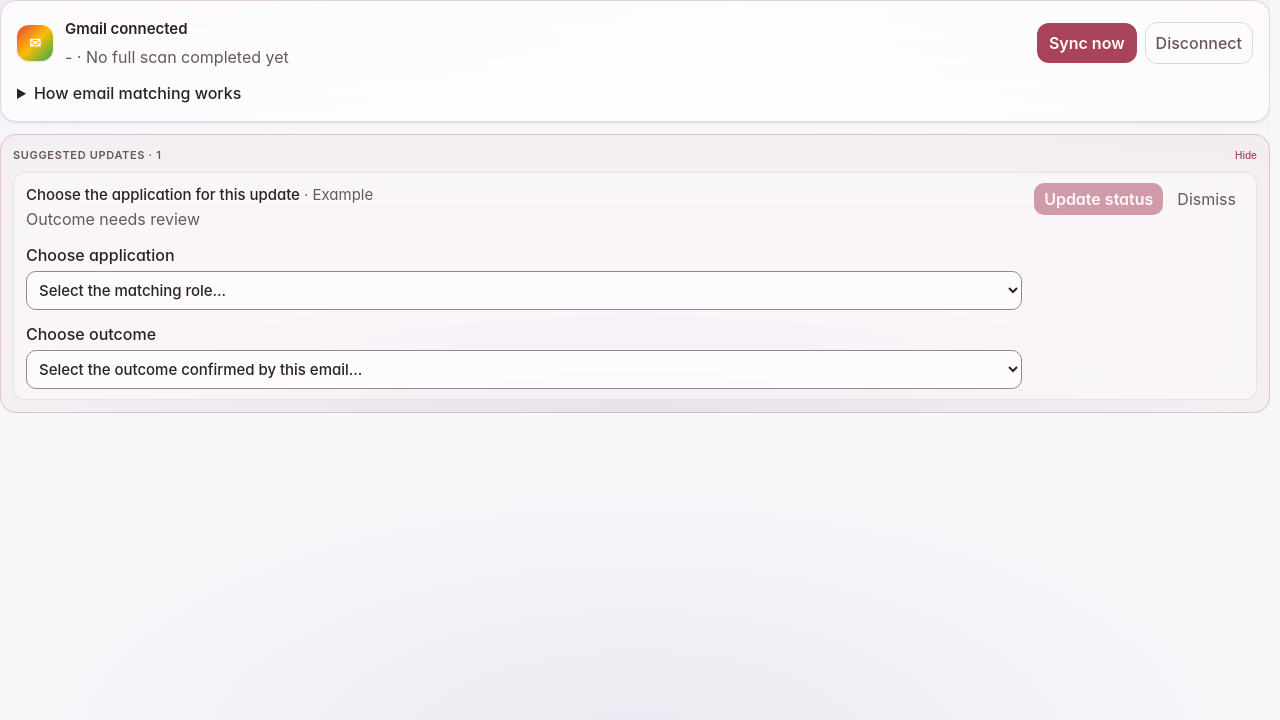
Scenario: Gmail review › the connected review queue forwards the chosen outcome through the API
Select "Engineer - Example" in the dropdown labelled "Choose application" at x=524, y=290, box 26,270 -> 1022,310
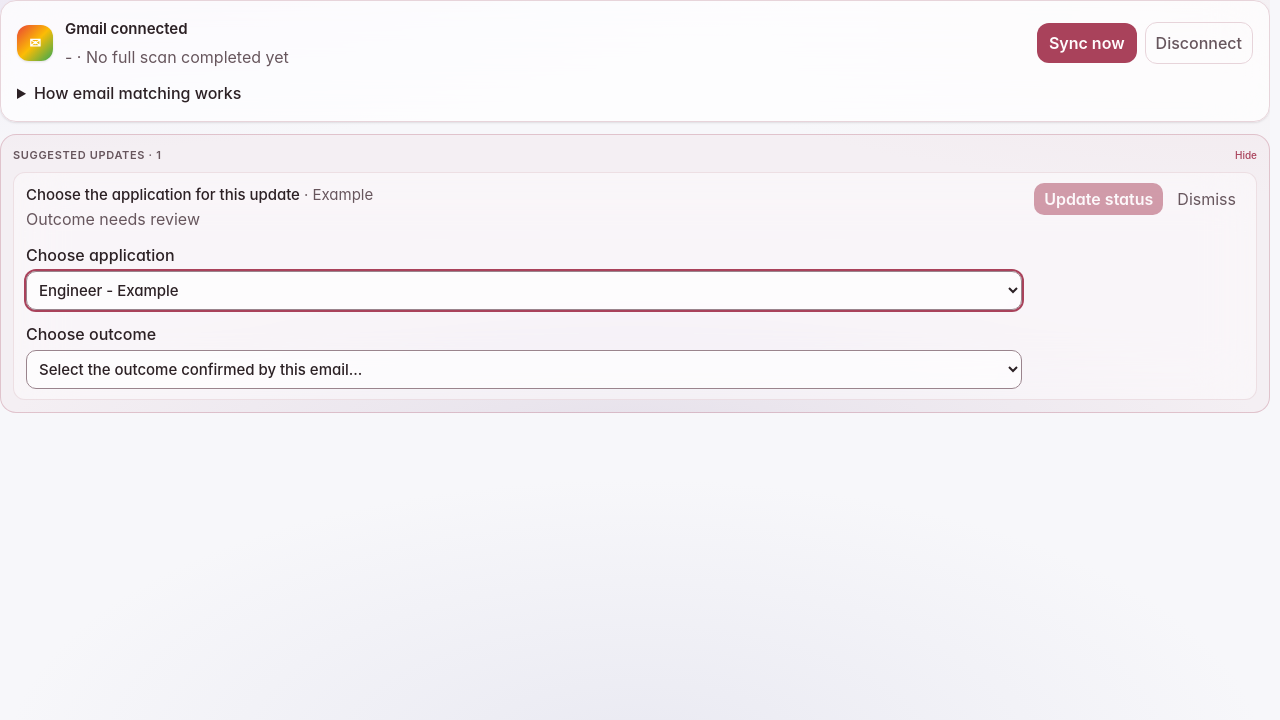
Expected: the button "Update status" is disabled, 1034,182 -> 1163,214
Select "Interviewing" in the dropdown labelled "Choose outcome" at x=524, y=369, box 26,350 -> 1022,388
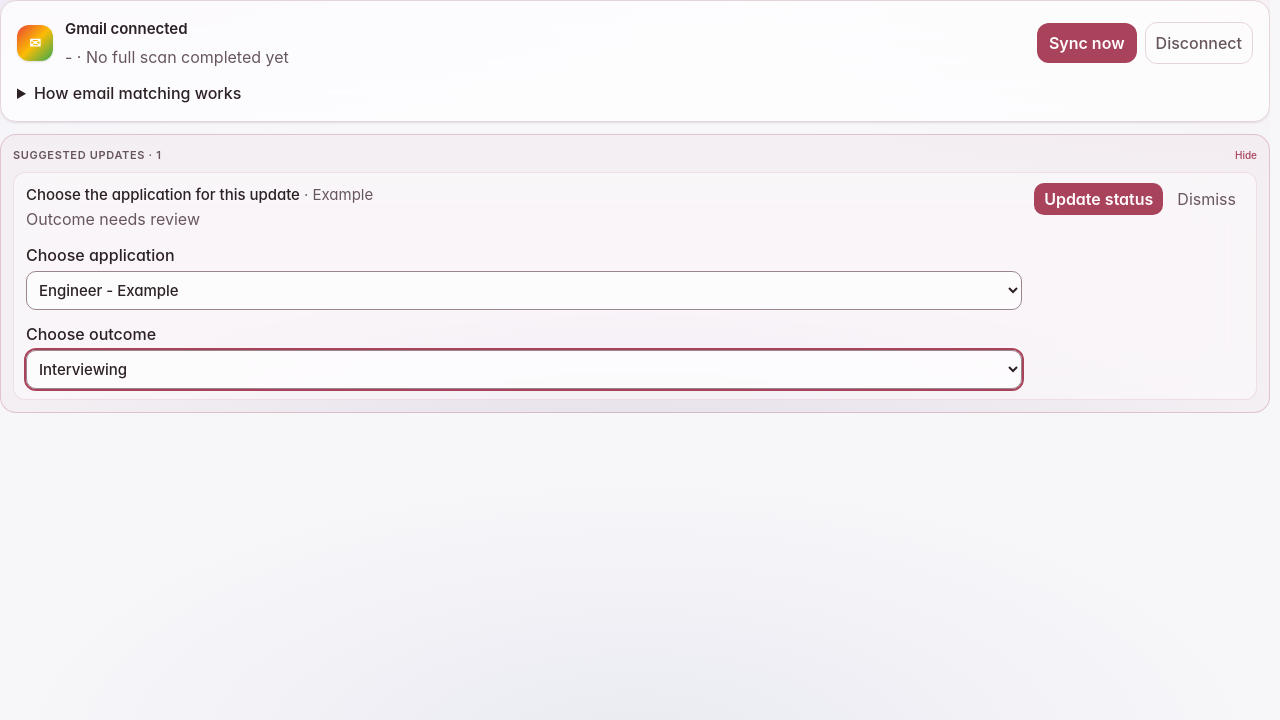
Click the button "Update status" at x=1099, y=198, box 1034,182 -> 1163,214
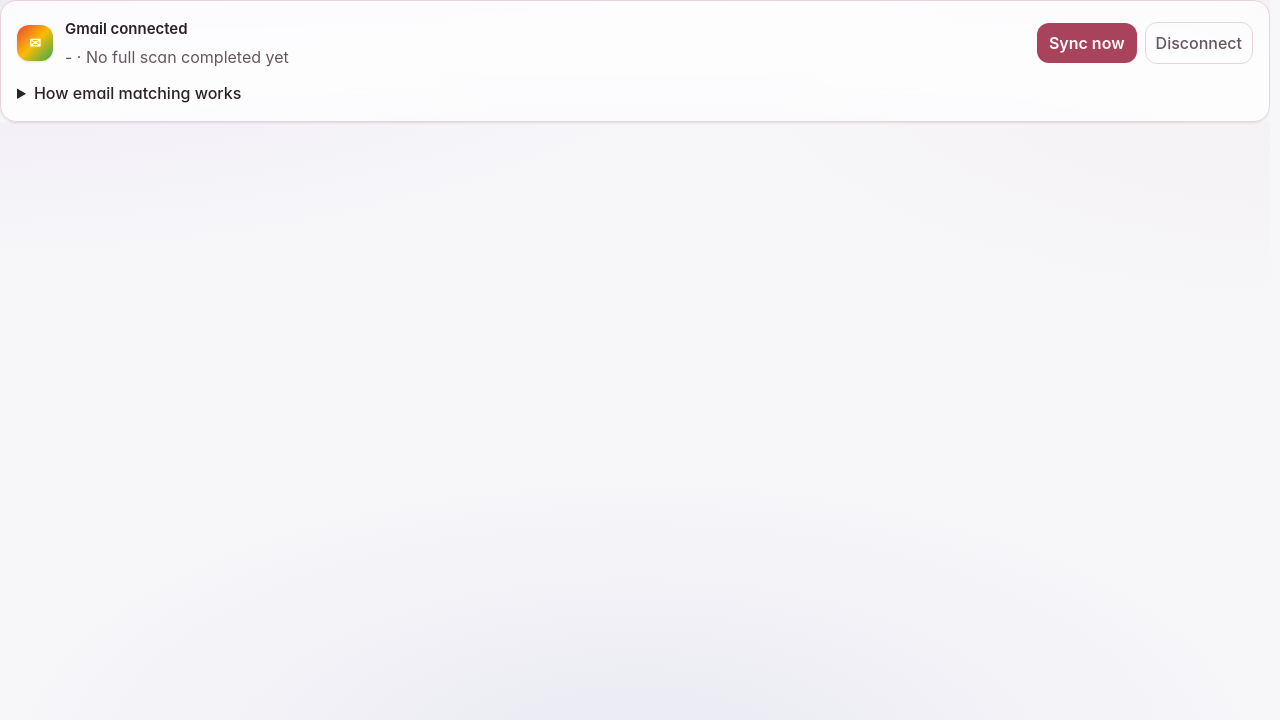
Now the button "Update status" is gone
